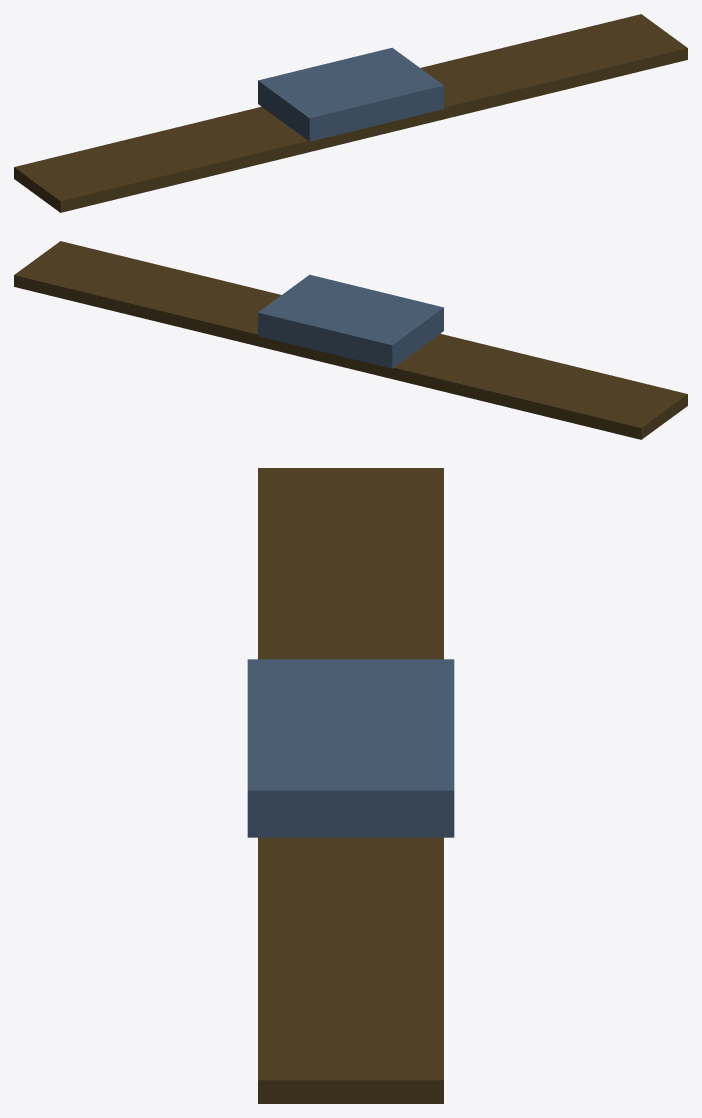
Rendered from 107_L103_ViaRepair_5.fbx.
3 renders of one model, top to bottom at view 1: azimuth 30°, elevation 25°; view 2: azimuth 150°, elevation 25°; view 3: azimuth 270°, elevation 25°, orthographic. The views are drawn at different scales.
Visible parts, largest first — view 1: 107_L103_ViaRepair_5; view 2: 107_L103_ViaRepair_5; view 3: 107_L103_ViaRepair_5.
Part boxes in pixels (x1=…): 107_L103_ViaRepair_5: x1=14, y1=14, x2=687, y2=212; 107_L103_ViaRepair_5: x1=14, y1=241, x2=687, y2=439; 107_L103_ViaRepair_5: x1=247, y1=468, x2=454, y2=1103.
Size of the model in its own units: 1.4 by 0.0775 by 0.2.
